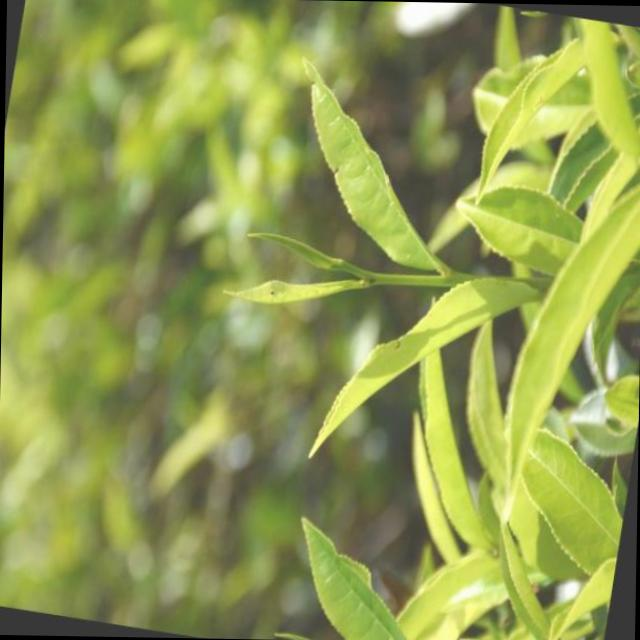Stem: (367, 273, 380, 283)
